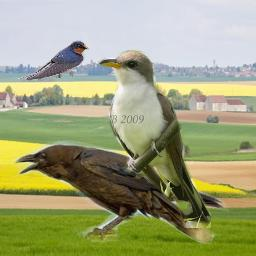Crow: (11, 139, 229, 244)
Cuckoo: (98, 49, 211, 228)
Swallow: (17, 40, 89, 81)
